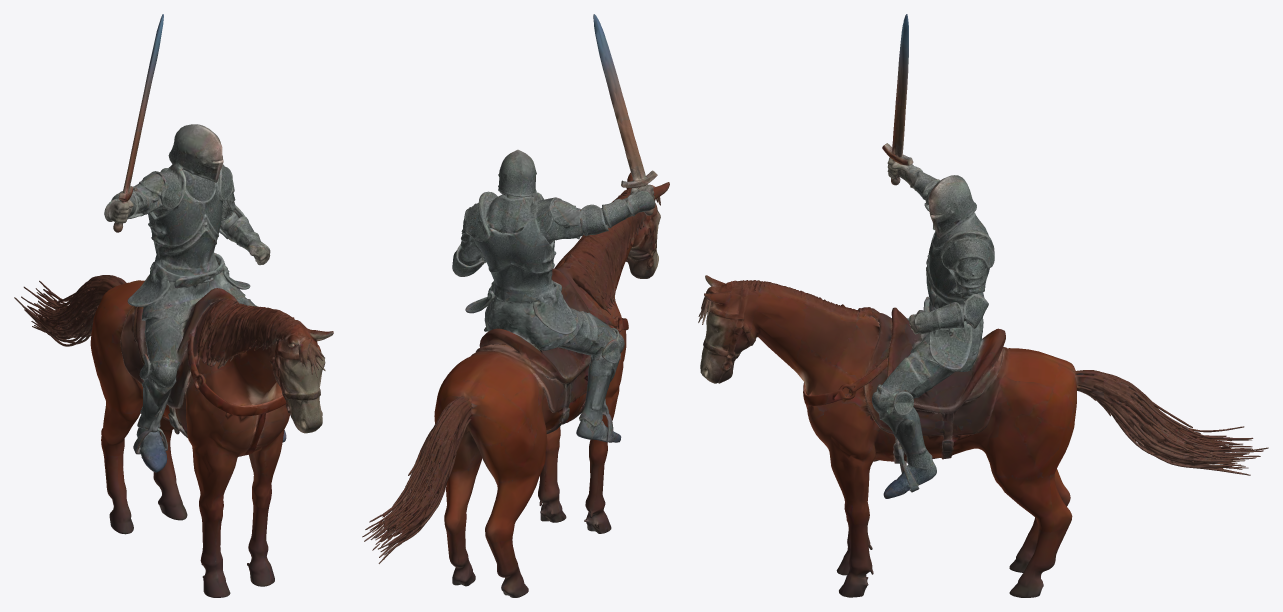
The model's file is horse.glb.
3 renders of one model, left to right at view 1: azimuth 30°, elevation 25°; view 2: azimuth 150°, elevation 25°; view 3: azimuth 270°, elevation 25°, orthographic. The views are drawn at different scales.
Size of the model in its own units: 0.6296 by 1.9 by 1.8.
Materials: 1 (1 with a texture image).
